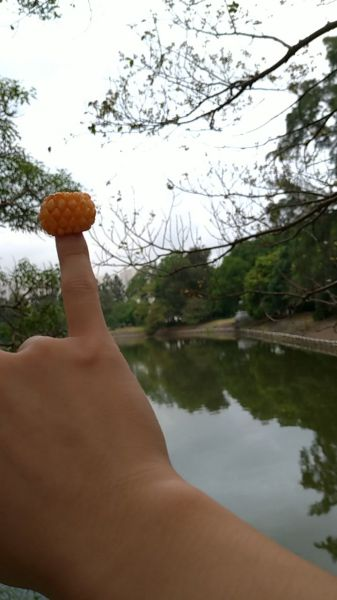eggs: (39, 192, 96, 237)
